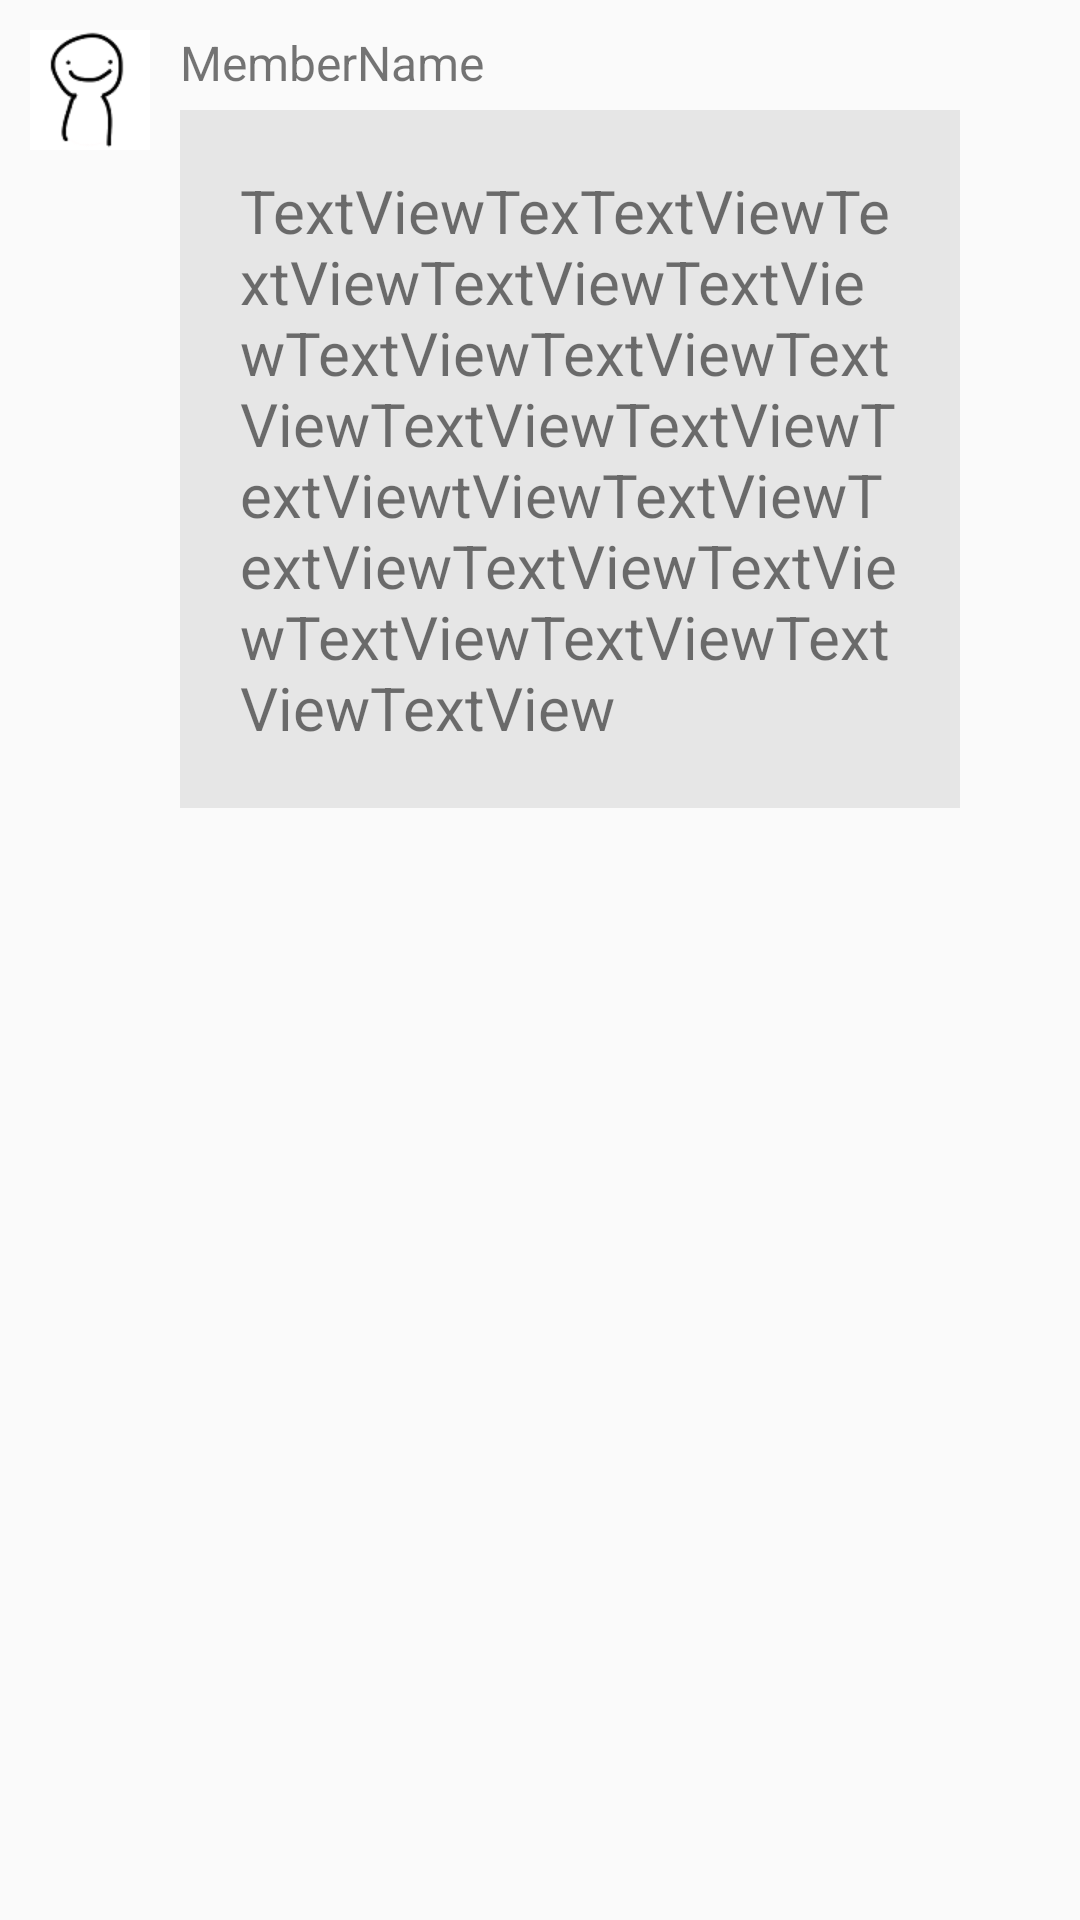

Named icons in this screenshot (1080×1920) and their centers, point (x, y):
defaultmimg: point (87, 89)
